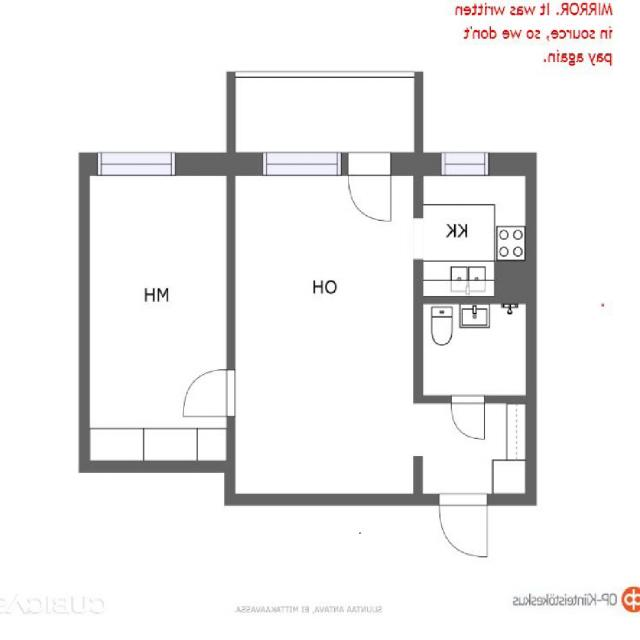door: (438, 492, 487, 558), (348, 153, 392, 222), (182, 369, 236, 417), (451, 396, 484, 440)
